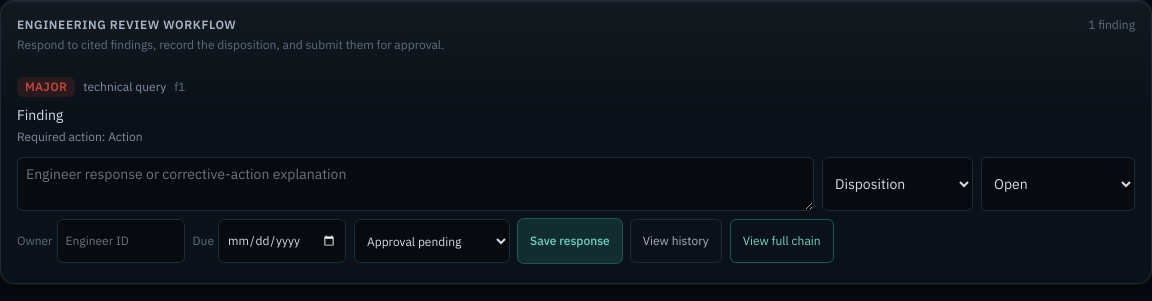
Test: surfaces a traceability failure instead of failing silently
Click the button "View full chain".
click(782, 241)  # box [730, 219, 834, 263]
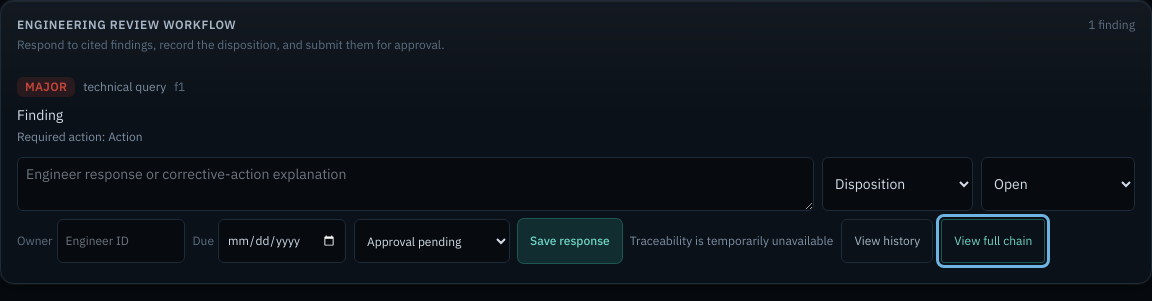
Expected: the message reads "Traceability is temporarily unavailable", [630, 233, 834, 248]
